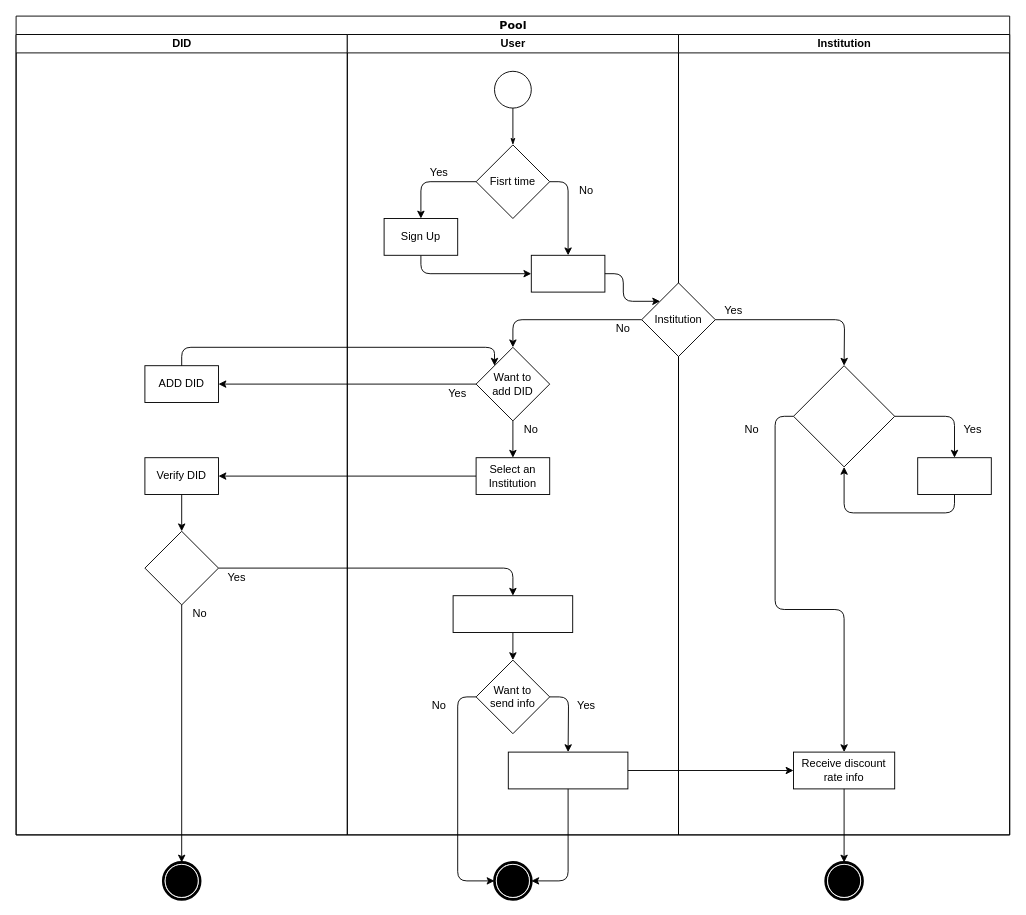
The diagram is 1026 pixels wide and 915 high, and some of its shapes have lost their labels. The shapes that lost their labels are listed below. From the top down, each one's centre as x and y in pixels, then its label:
point (567, 273): Login
point (844, 416): Want to update discount rate
point (954, 475): Update discount rate
point (181, 567): Valid
point (512, 613): Show the maximum discount rate
point (567, 770): Send discount rate info
